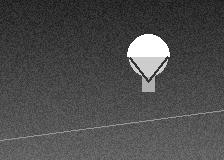helmet: (127, 34, 169, 81)
